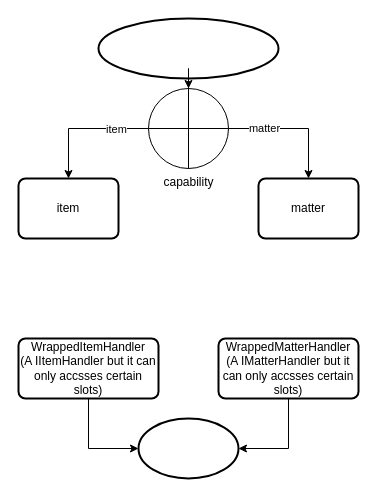
The diagram is 376 pixels wide and 496 high, and some of its shapes have lost their labels. The box of each missing label's shape, as (x1, y1, x2, y2) in pixels:
getCapability(capability, side): (97, 17, 279, 79)
return;: (137, 417, 239, 479)
